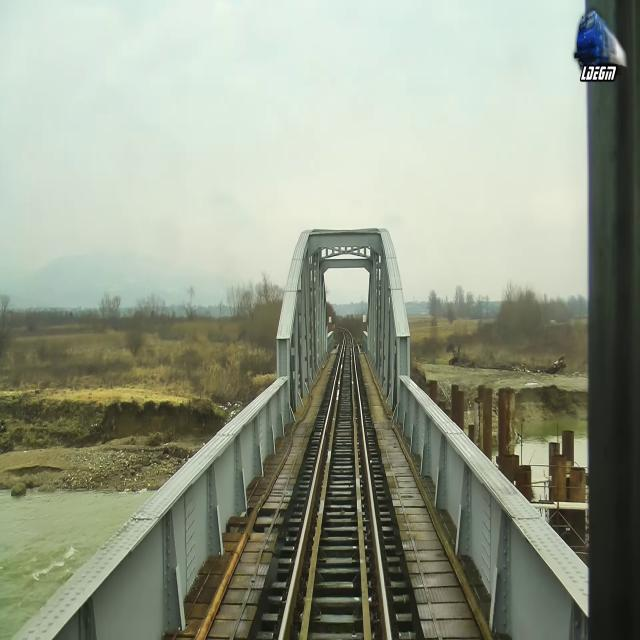rail-track: (306, 332, 364, 639), (283, 374, 338, 639), (353, 367, 386, 639)
